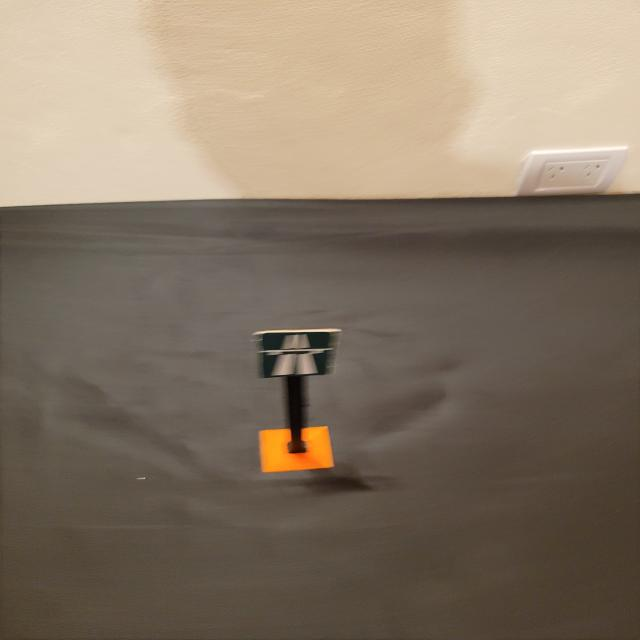highway_entrance: (259, 329, 338, 380)
